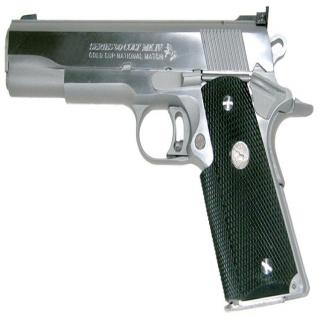gun: (4, 10, 312, 307)
